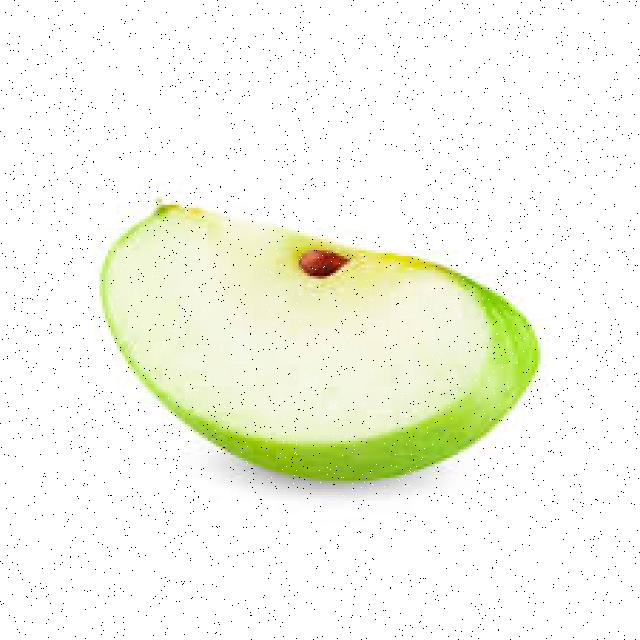Apple: (96, 204, 545, 480)
